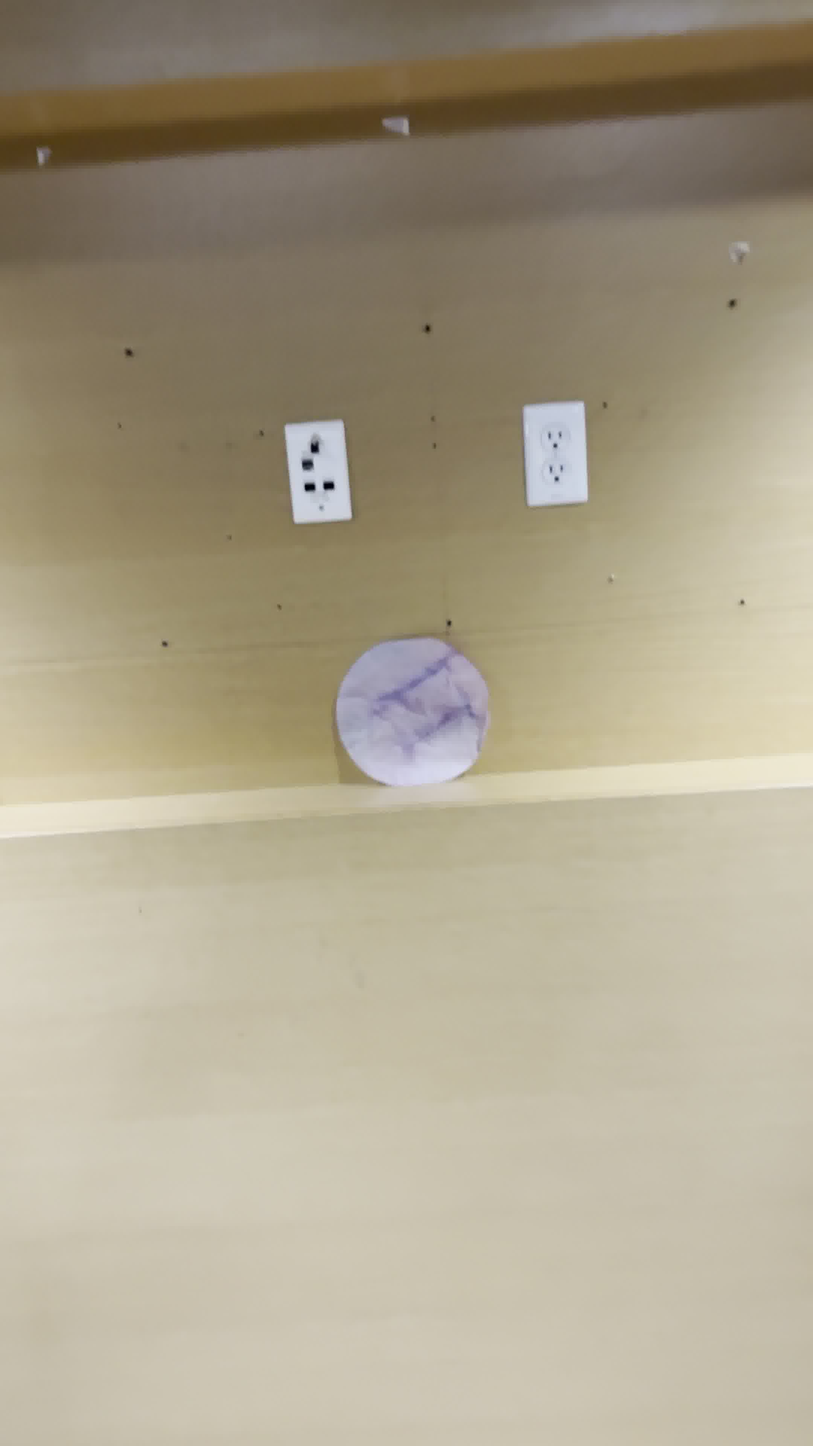Target: (326, 633, 488, 789)
